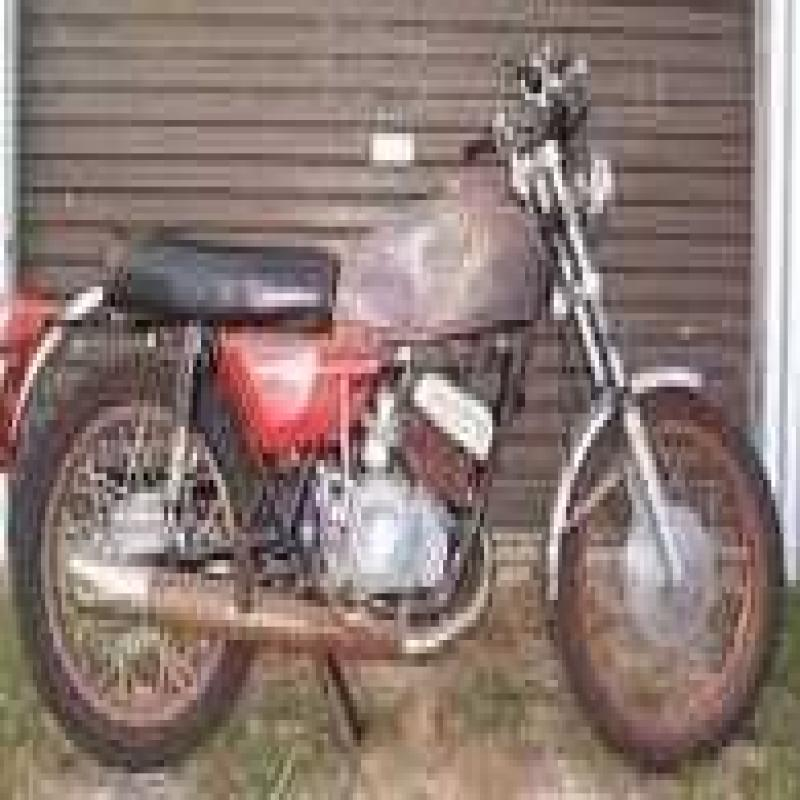bike: (5, 65, 795, 771)
